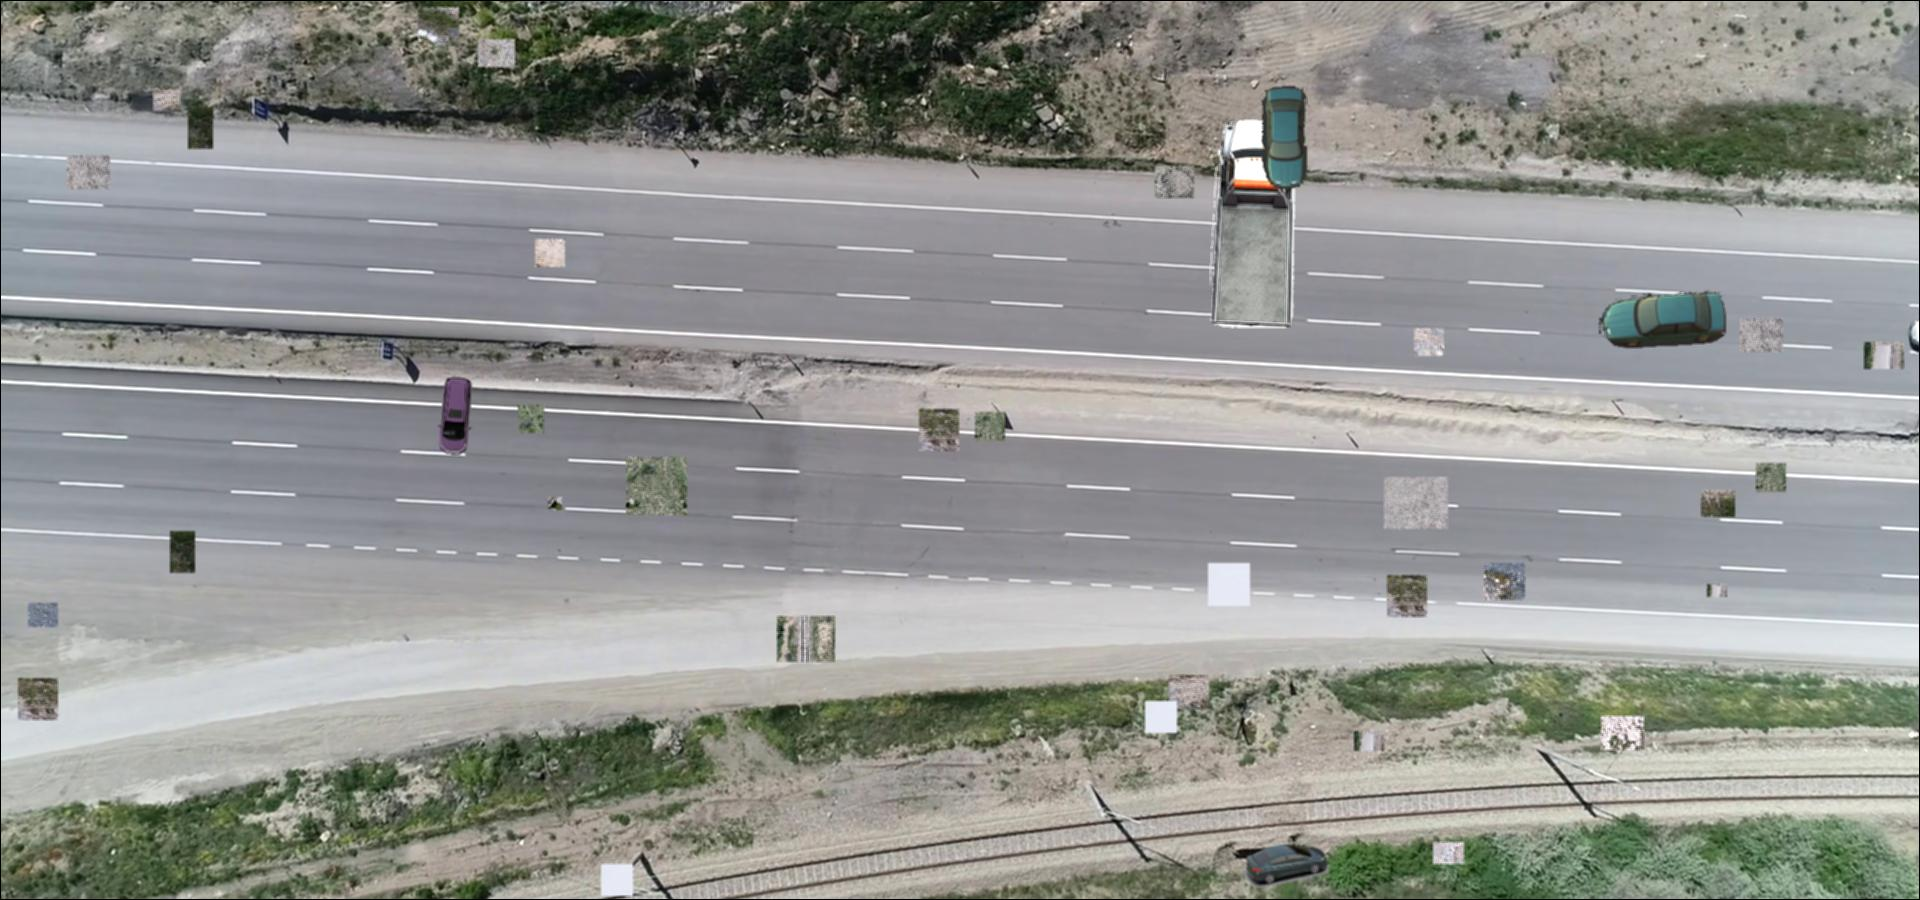arac: (1210, 120, 1303, 328), (1599, 290, 1727, 348), (1261, 86, 1307, 189), (1243, 844, 1329, 887), (433, 375, 473, 456)
